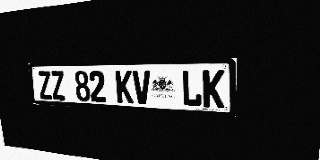2: (89, 70, 106, 102)
8: (74, 71, 91, 101)
K: (203, 70, 225, 108), (115, 70, 134, 104)
L: (181, 70, 202, 107)
V: (132, 70, 151, 104)
Z: (37, 71, 53, 100), (50, 71, 66, 100)
